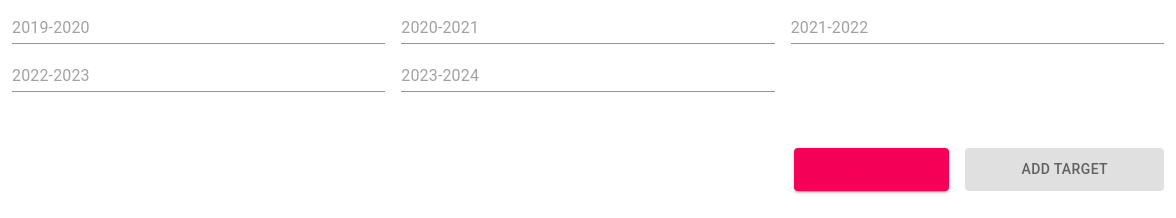
Test case: Target Dialog Screens › Target Screen › clears all values when `Reset` button is clicked
Type "123" into the field with placeholder "2021-2022".
click(977, 28); type("123")  # box [791,12,1164,44]
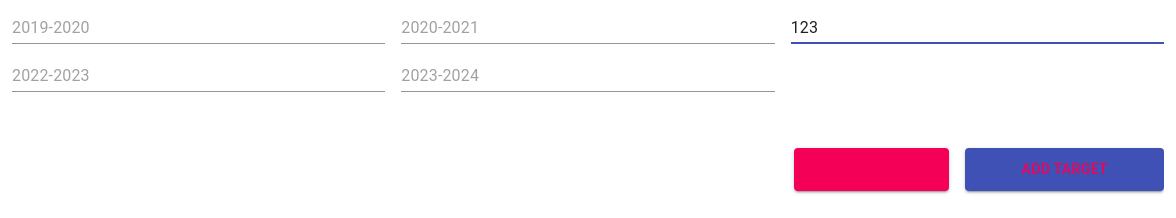
Type "456" into the field with placeholder "2022-2023".
click(199, 76); type("456")  # box [12,60,385,92]
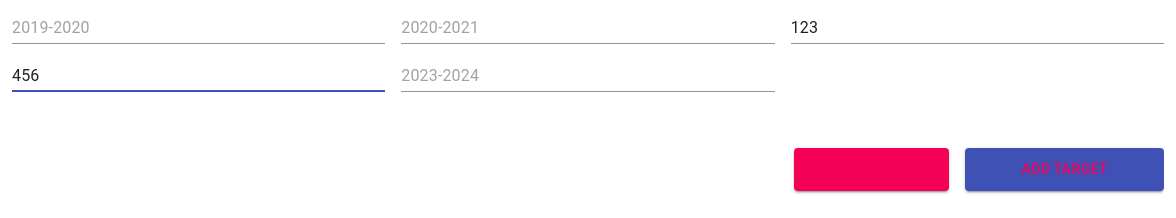
Click the button "Reset".
click(872, 169)  # box [794,148,950,191]
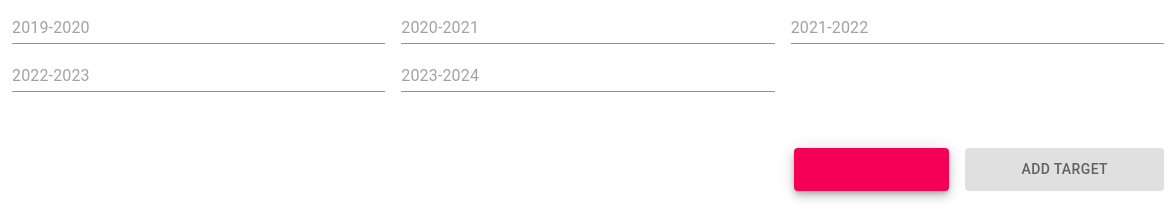
Result: the field with placeholder "2021-2022" is empty at [791,12,1164,44]
Result: the field with placeholder "2022-2023" is empty at [12,60,385,92]
